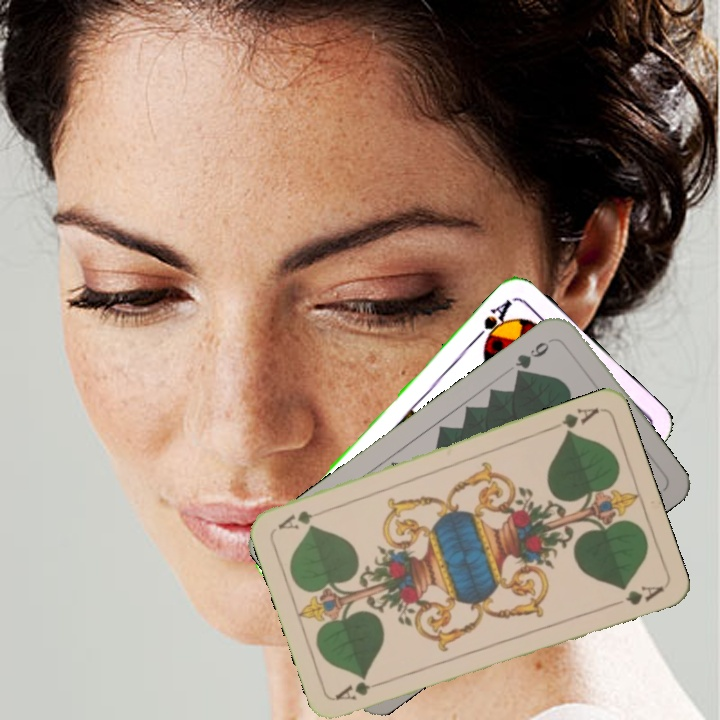G9: (510, 334, 557, 380)
GA: (546, 403, 602, 438), (332, 676, 390, 703)
SA: (471, 295, 515, 349)
